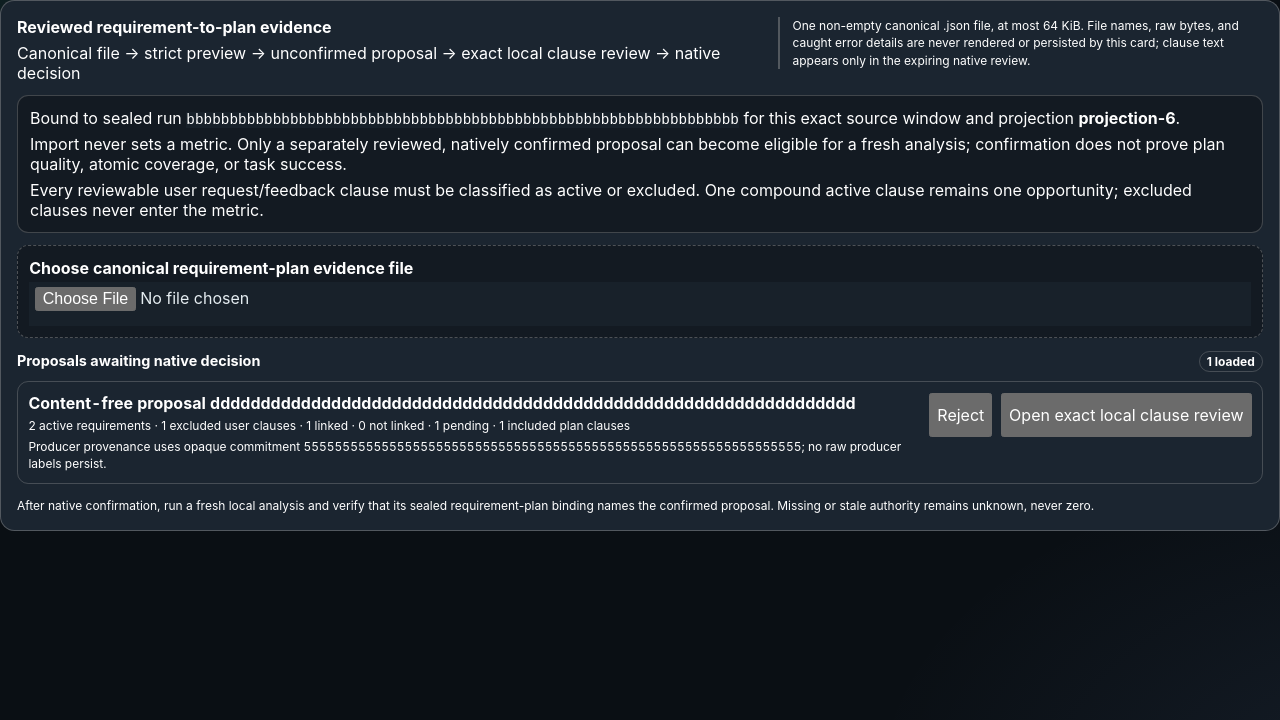
Scenario: RequirementPlanEvidencePanel › expires an opened review and clears its acknowledgement
Later steps or results of the test are not shown.
Step 1. Click the button "Open exact local clause review" → (1126, 414), box top-left (1001, 392), bottom-right (1252, 436)
(page scrolled)
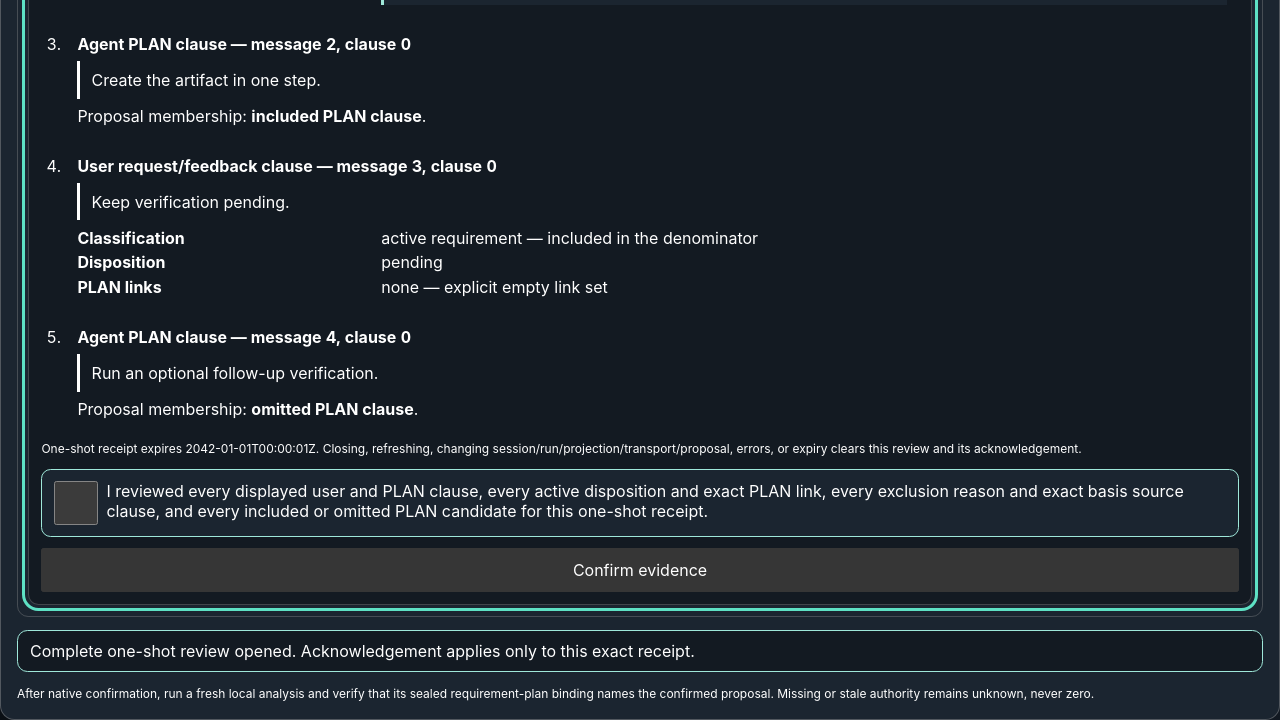
Step 2. Click the checkbox labelled "I reviewed every displayed user and PLAN clause" → (76, 503), box top-left (54, 481), bottom-right (98, 525)
Wait 1001 ms
(page scrolled)
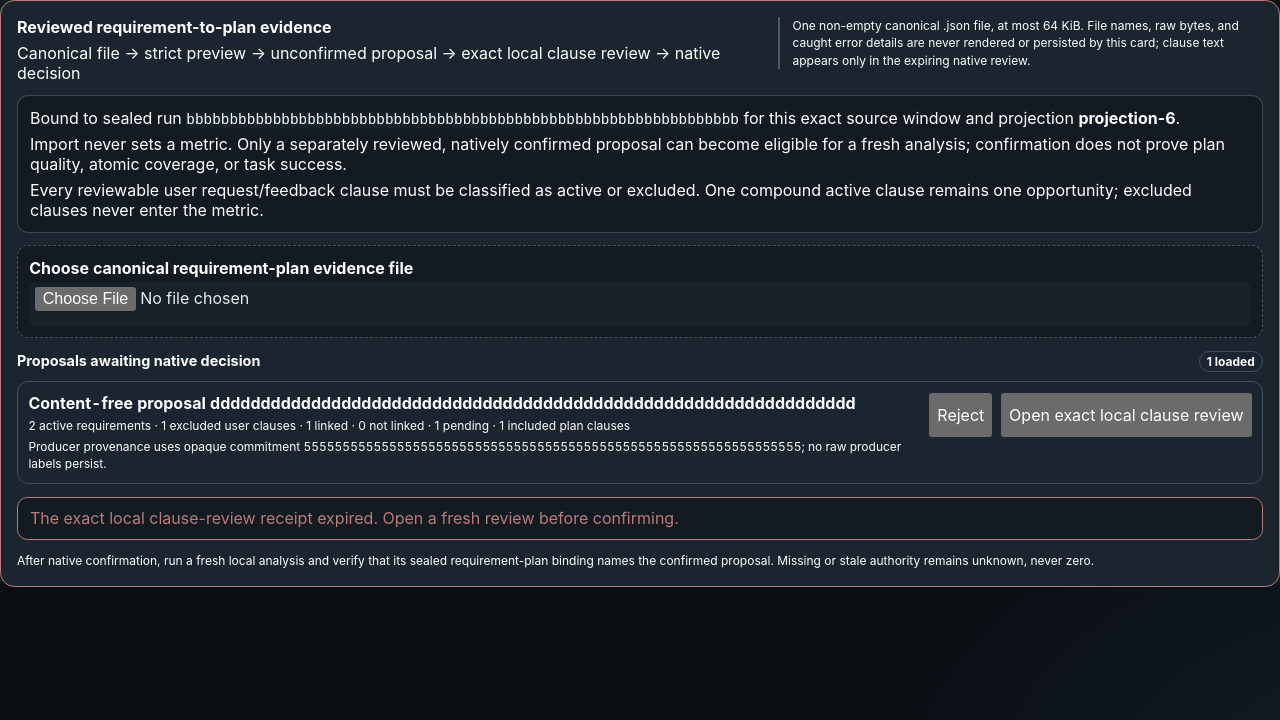
Expected: the message shows "receipt expired", top-left (30, 508), bottom-right (679, 528)
Expected: the button "Confirm evidence" is gone
Expected: the text labelled "I reviewed every displayed user and PLAN clause" is gone
